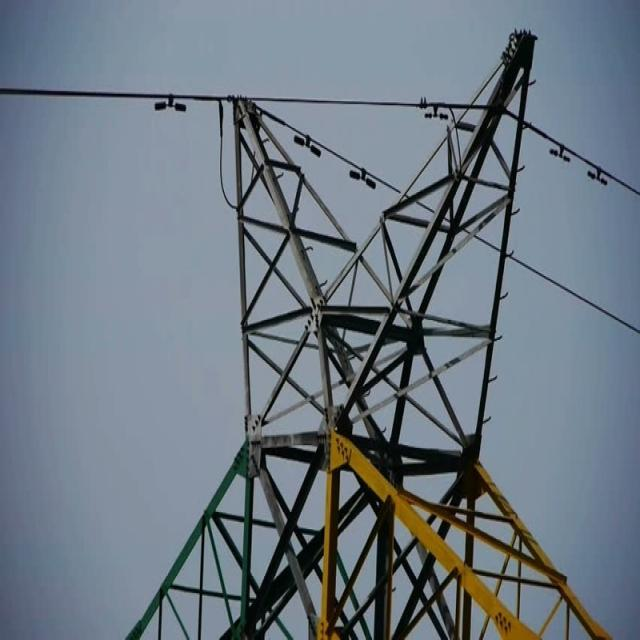non-critical vegetation: (120, 51, 614, 636)
